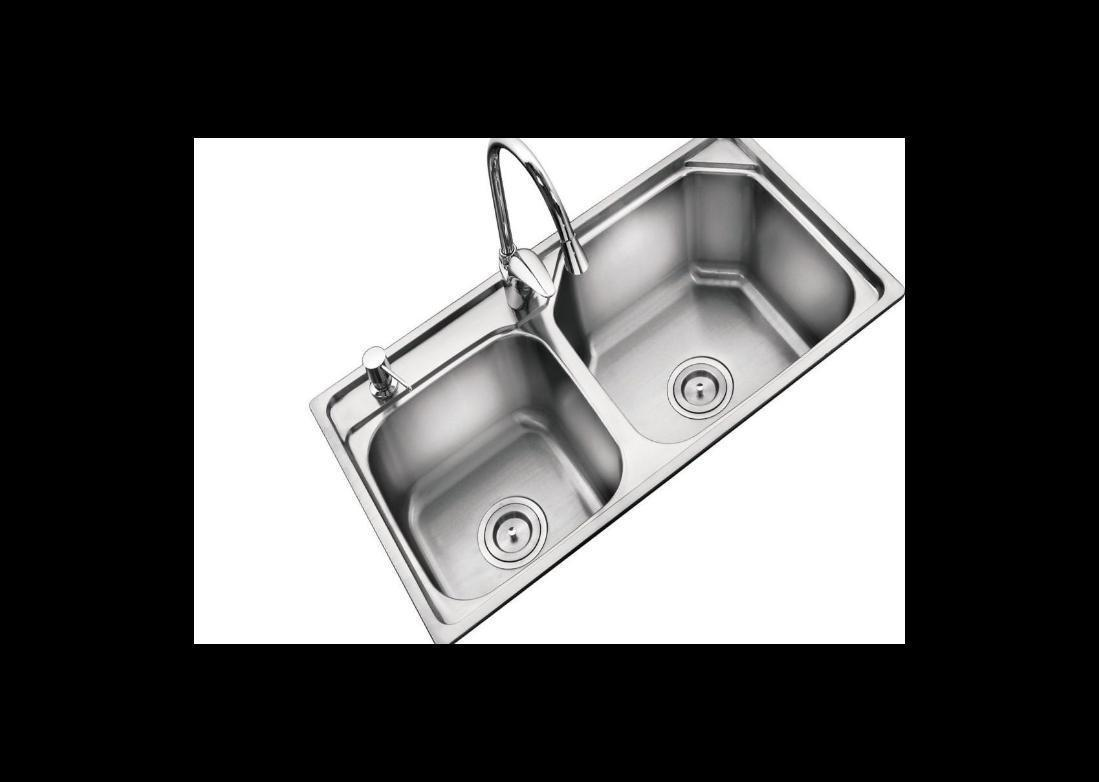Lavaplatos: (297, 157, 877, 644)
